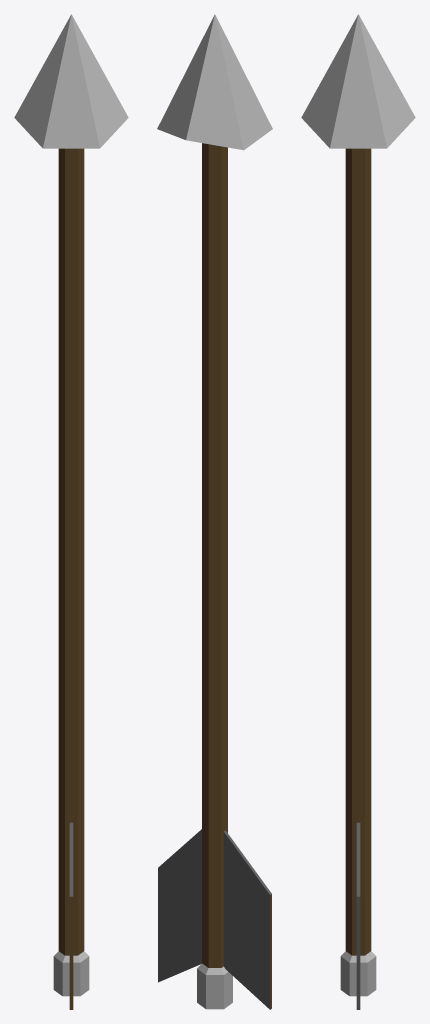
The model's file is olren_arrow.glb.
The picture shows the model from 3 angles, left to right: view 1: azimuth 90°, elevation 25°; view 2: azimuth 150°, elevation 25°; view 3: azimuth 270°, elevation 25°; orthographic projection.
Parts seen in each view (by area): view 1: Arrow; view 2: Arrow; view 3: Arrow.
Part boxes in pixels (<box>): Arrow: <box>14,14,128,1009</box>; Arrow: <box>157,14,272,1009</box>; Arrow: <box>301,14,415,1009</box>.
Size of the model in its own units: 0.0508 by 0.4279 by 0.0455.
